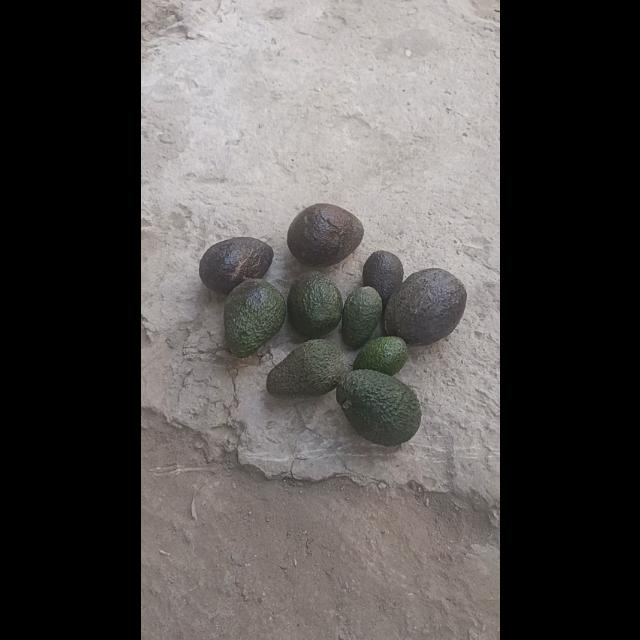Primera: (384, 267, 466, 345), (336, 368, 420, 444), (221, 278, 285, 356), (285, 202, 363, 266), (198, 236, 272, 294)
Segunda: (266, 338, 346, 398), (285, 270, 343, 336)
Tercera: (340, 286, 382, 348), (361, 249, 404, 307), (352, 336, 408, 376)
